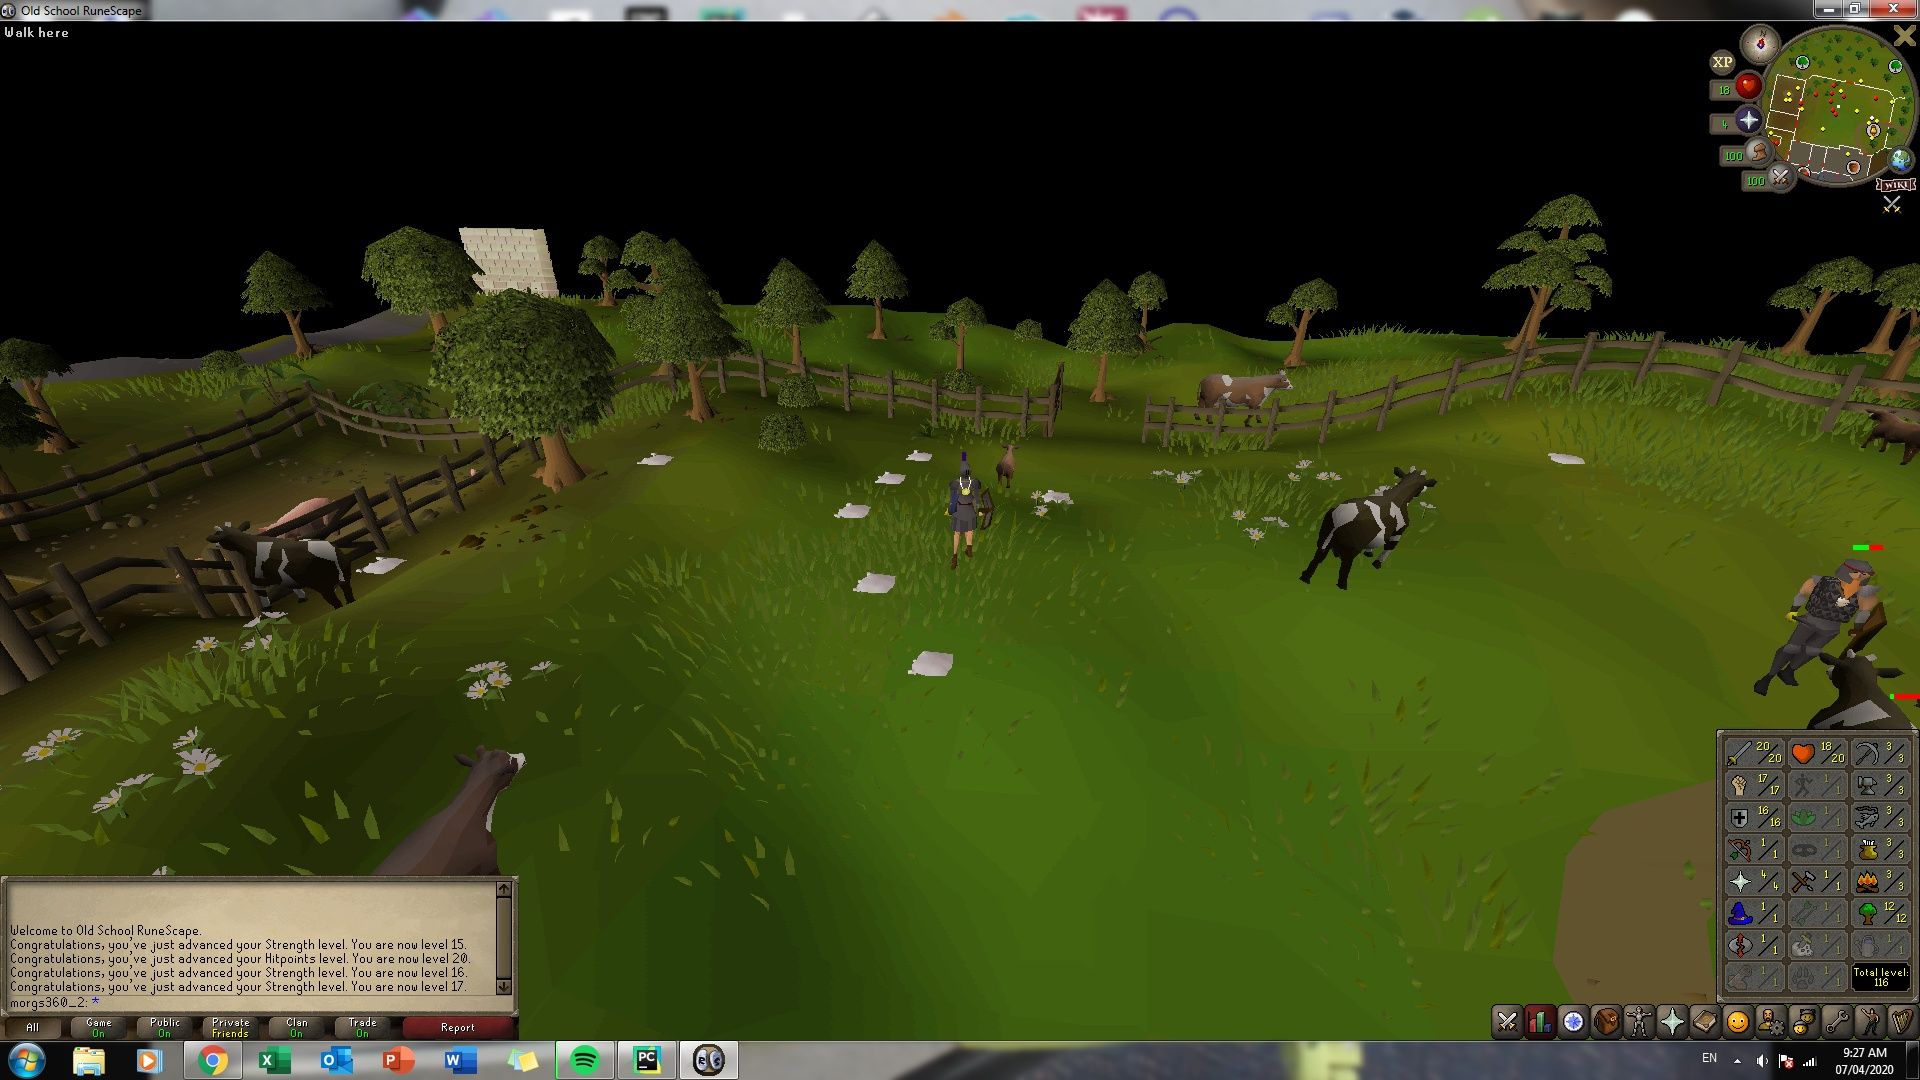cow: (364, 749, 529, 878), (1299, 467, 1436, 591), (200, 522, 355, 618), (1802, 649, 1912, 728), (1198, 364, 1290, 429), (990, 444, 1019, 490)
player: (947, 453, 985, 567)
